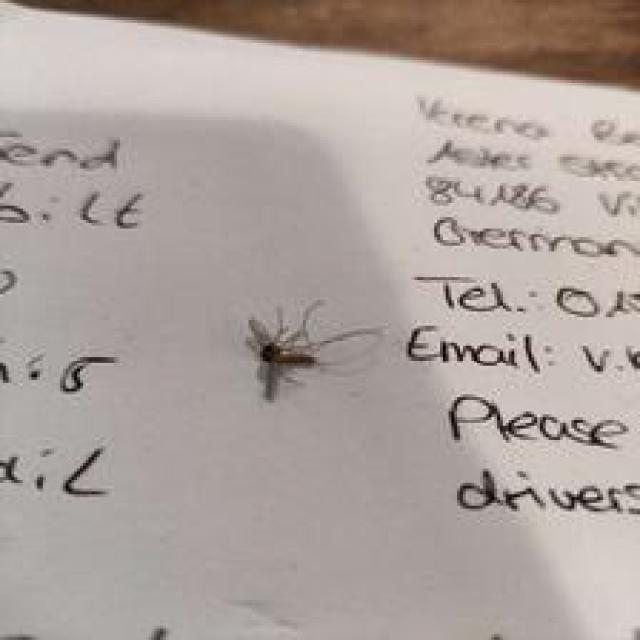Culex: (243, 297, 383, 403)
